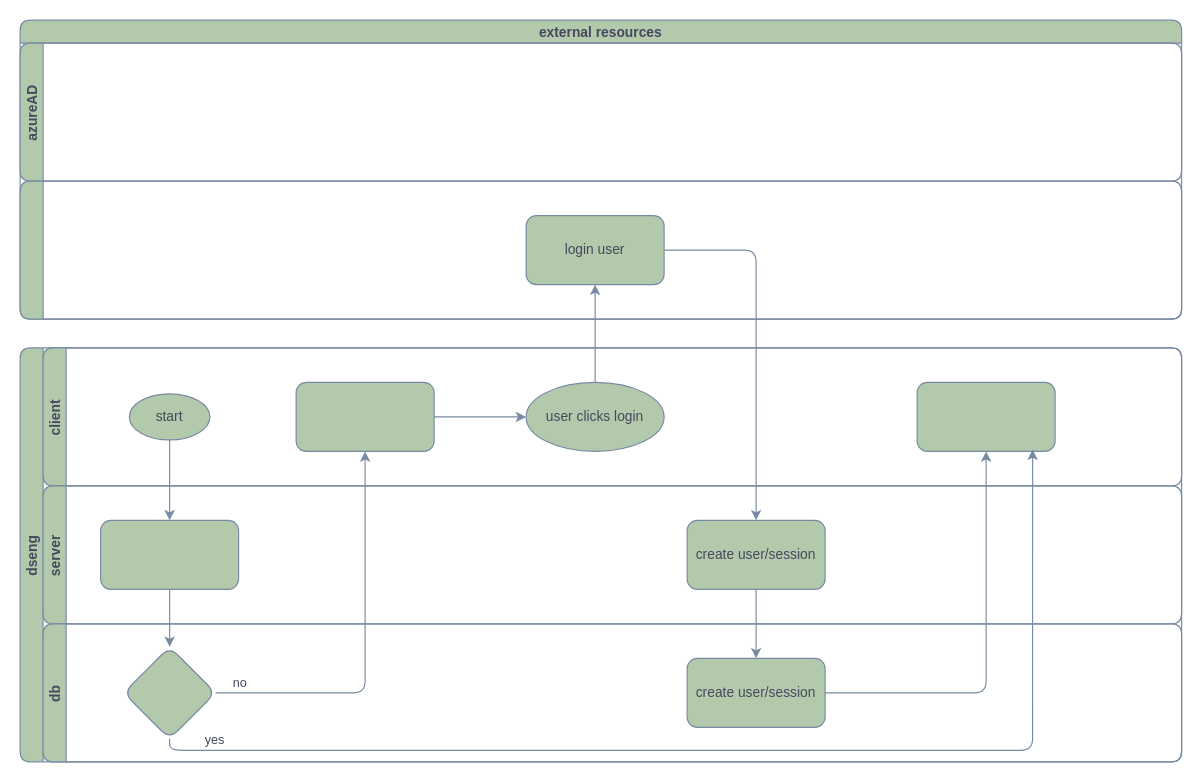
This 1202x782 diagram has some shape labels left out. Each missing label, with the box of its shape:
/home: (916, 381, 1055, 451)
/landing: (295, 381, 434, 451)
check session: (99, 519, 239, 589)
github: (19, 180, 1182, 319)
session?: (122, 646, 216, 739)
